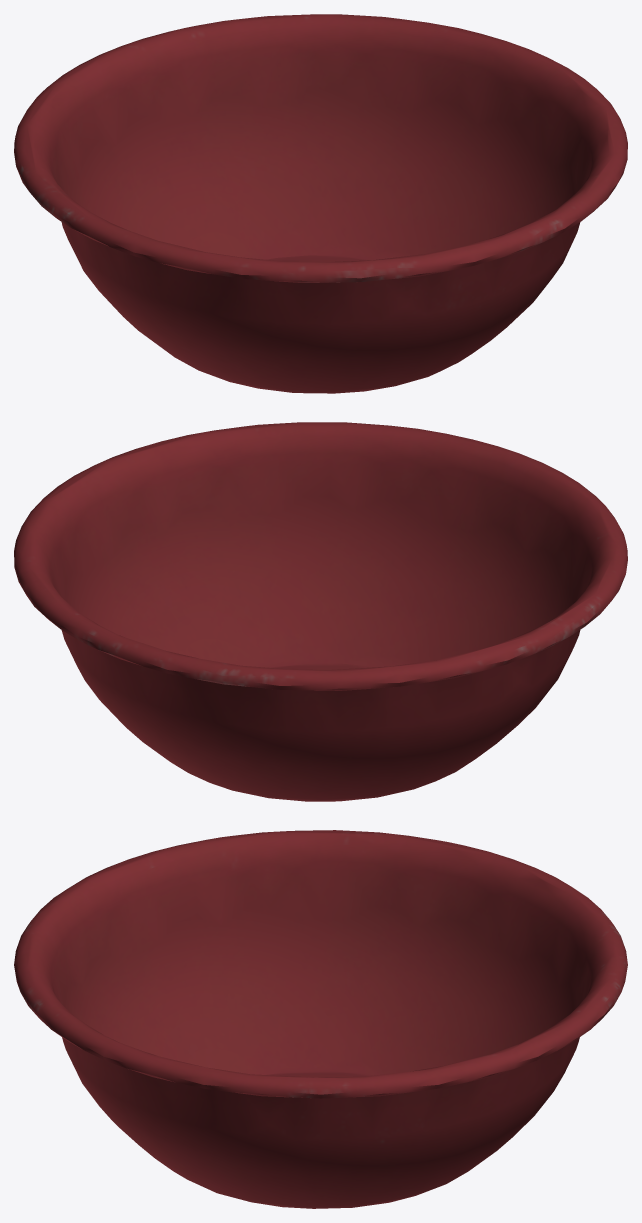
Rendered from dishware_bowl_a01.glb.
The picture shows the model from 3 angles, top to bottom: view 1: azimuth 30°, elevation 25°; view 2: azimuth 150°, elevation 25°; view 3: azimuth 270°, elevation 25°; orthographic projection.
Visible parts, largest first — view 1: dishware_bowl_a01_lod1; view 2: dishware_bowl_a01_lod1; view 3: dishware_bowl_a01_lod1.
Part boxes in pixels (x1,y1,x2,y2): dishware_bowl_a01_lod1: (14, 14, 627, 393); dishware_bowl_a01_lod1: (14, 422, 627, 801); dishware_bowl_a01_lod1: (14, 830, 627, 1208).
Size of the model in its own units: 0.1629 by 0.0548 by 0.1629.
Materials: 1 (1 with a texture image).
